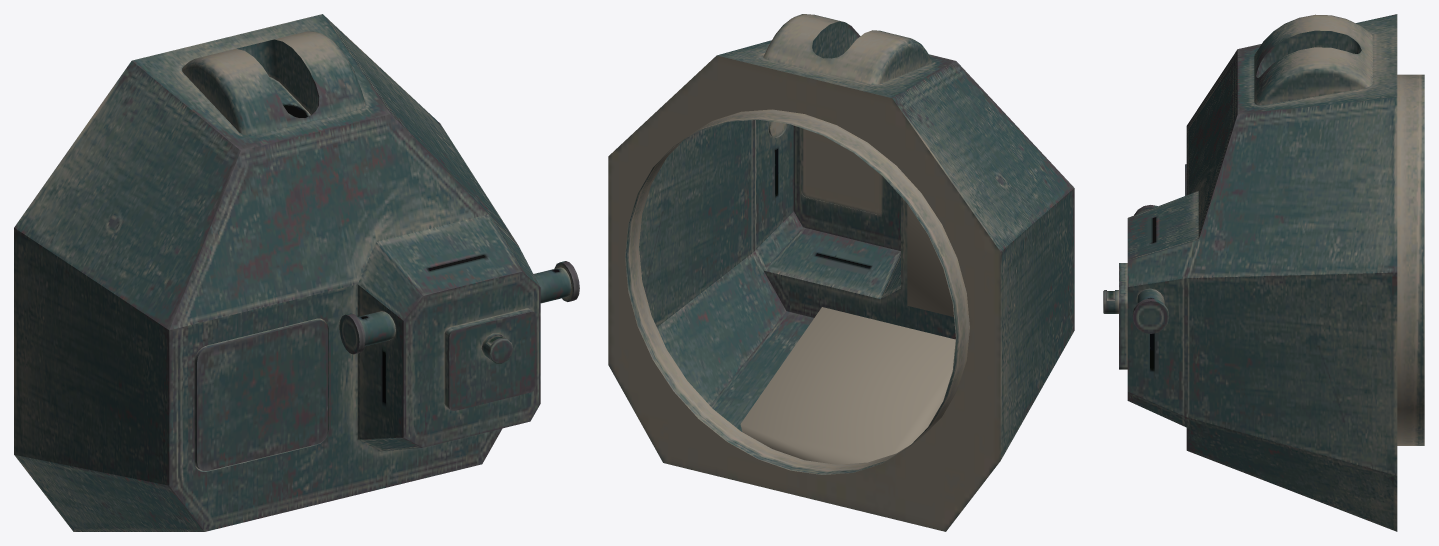
Rendered from Turret_01.glb.
The picture shows the model from 3 angles, left to right: view 1: azimuth 30°, elevation 25°; view 2: azimuth 150°, elevation 25°; view 3: azimuth 270°, elevation 25°; orthographic projection. The views are drawn at different scales.
Parts seen in each view (by area): view 1: set_0_group_0; view 2: set_0_group_0; view 3: set_0_group_0.
Boxes of the visible parts, x1,y1,x2,y2 form: set_0_group_0: (14,14,579,531); set_0_group_0: (608,14,1074,531); set_0_group_0: (1103,14,1424,531).
Bounding box in the file's own units: 1.7 × 1.81 × 1.24.
1 material, 1 textured.
